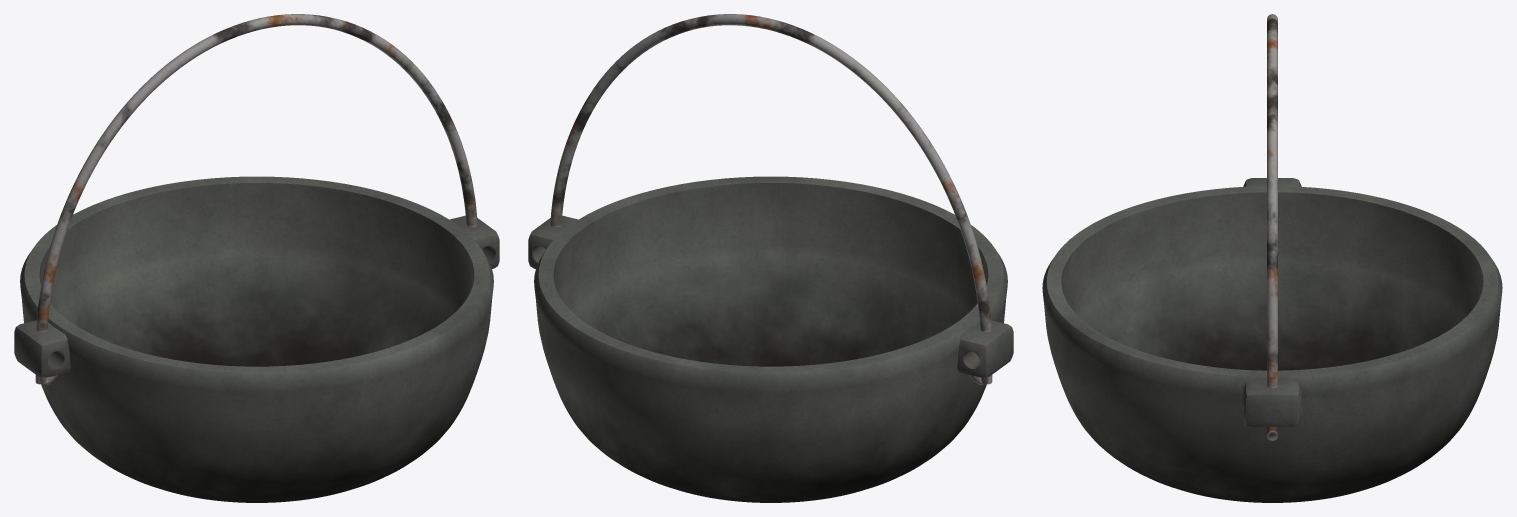
The model's file is soapstone_pot.glb.
3 renders of one model, left to right at view 1: azimuth 30°, elevation 25°; view 2: azimuth 150°, elevation 25°; view 3: azimuth 270°, elevation 25°, orthographic. The views are drawn at different scales.
Parts seen in each view (by area): view 1: soapstone_pot; view 2: soapstone_pot; view 3: soapstone_pot.
Boxes of the visible parts, x1,y1,x2,y2 form: soapstone_pot: (14,14,499,502); soapstone_pot: (528,14,1013,502); soapstone_pot: (1042,14,1502,502).
Size of the model in its own units: 0.356 by 0.3184 by 0.316.
1 material, 1 textured.
